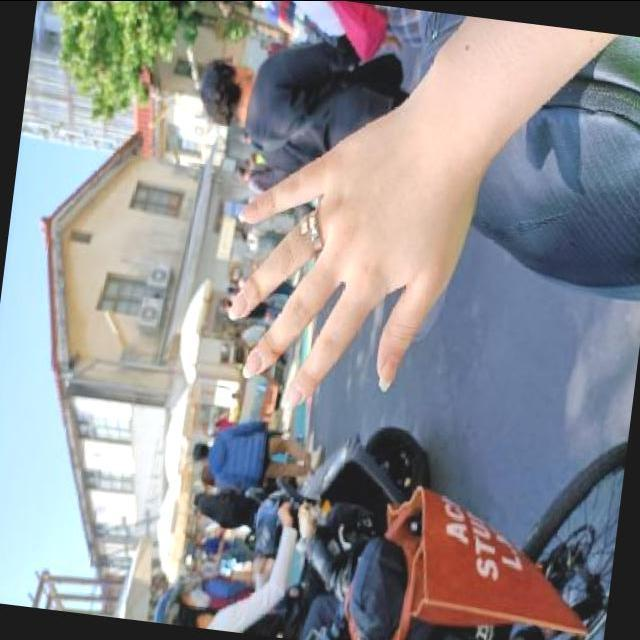hand: (202, 59, 499, 439)
